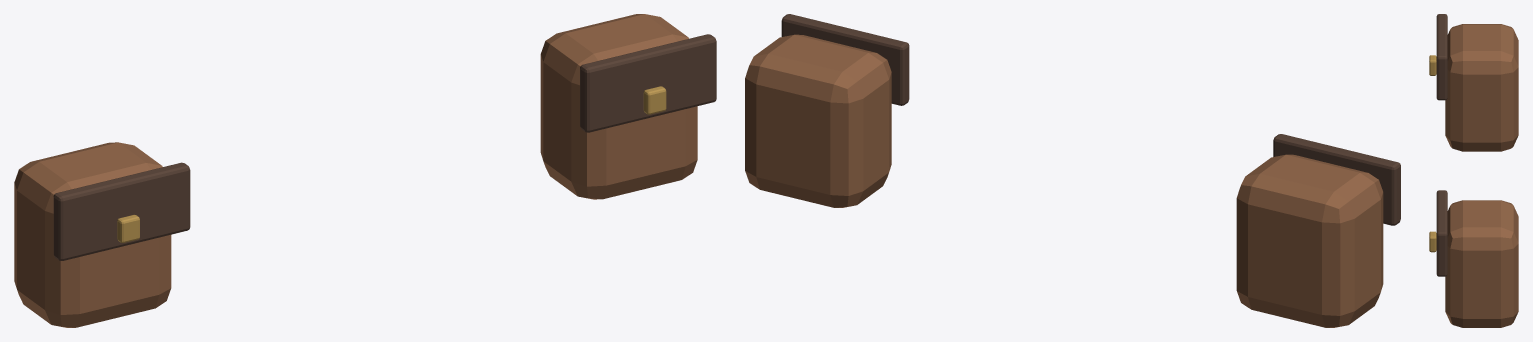
Rendered from pouch_belt_double.glb.
3 renders of one model, left to right at view 1: azimuth 30°, elevation 25°; view 2: azimuth 150°, elevation 25°; view 3: azimuth 270°, elevation 25°, orthographic. The views are drawn at different scales.
Visible parts, largest first — view 1: pouch_belt_double; view 2: pouch_belt_double; view 3: pouch_belt_double.
Boxes of the visible parts, x1,y1,x2,y2 form: pouch_belt_double: (14, 14, 716, 327); pouch_belt_double: (745, 14, 1400, 327); pouch_belt_double: (1429, 14, 1518, 327).
Size of the model in its own units: 0.85 by 0.185 by 0.146.
